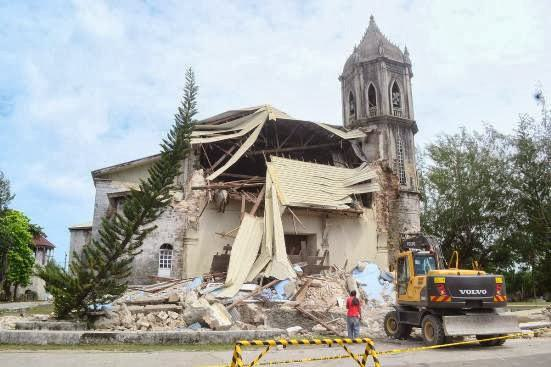sagging_roof: (169, 87, 379, 228)
